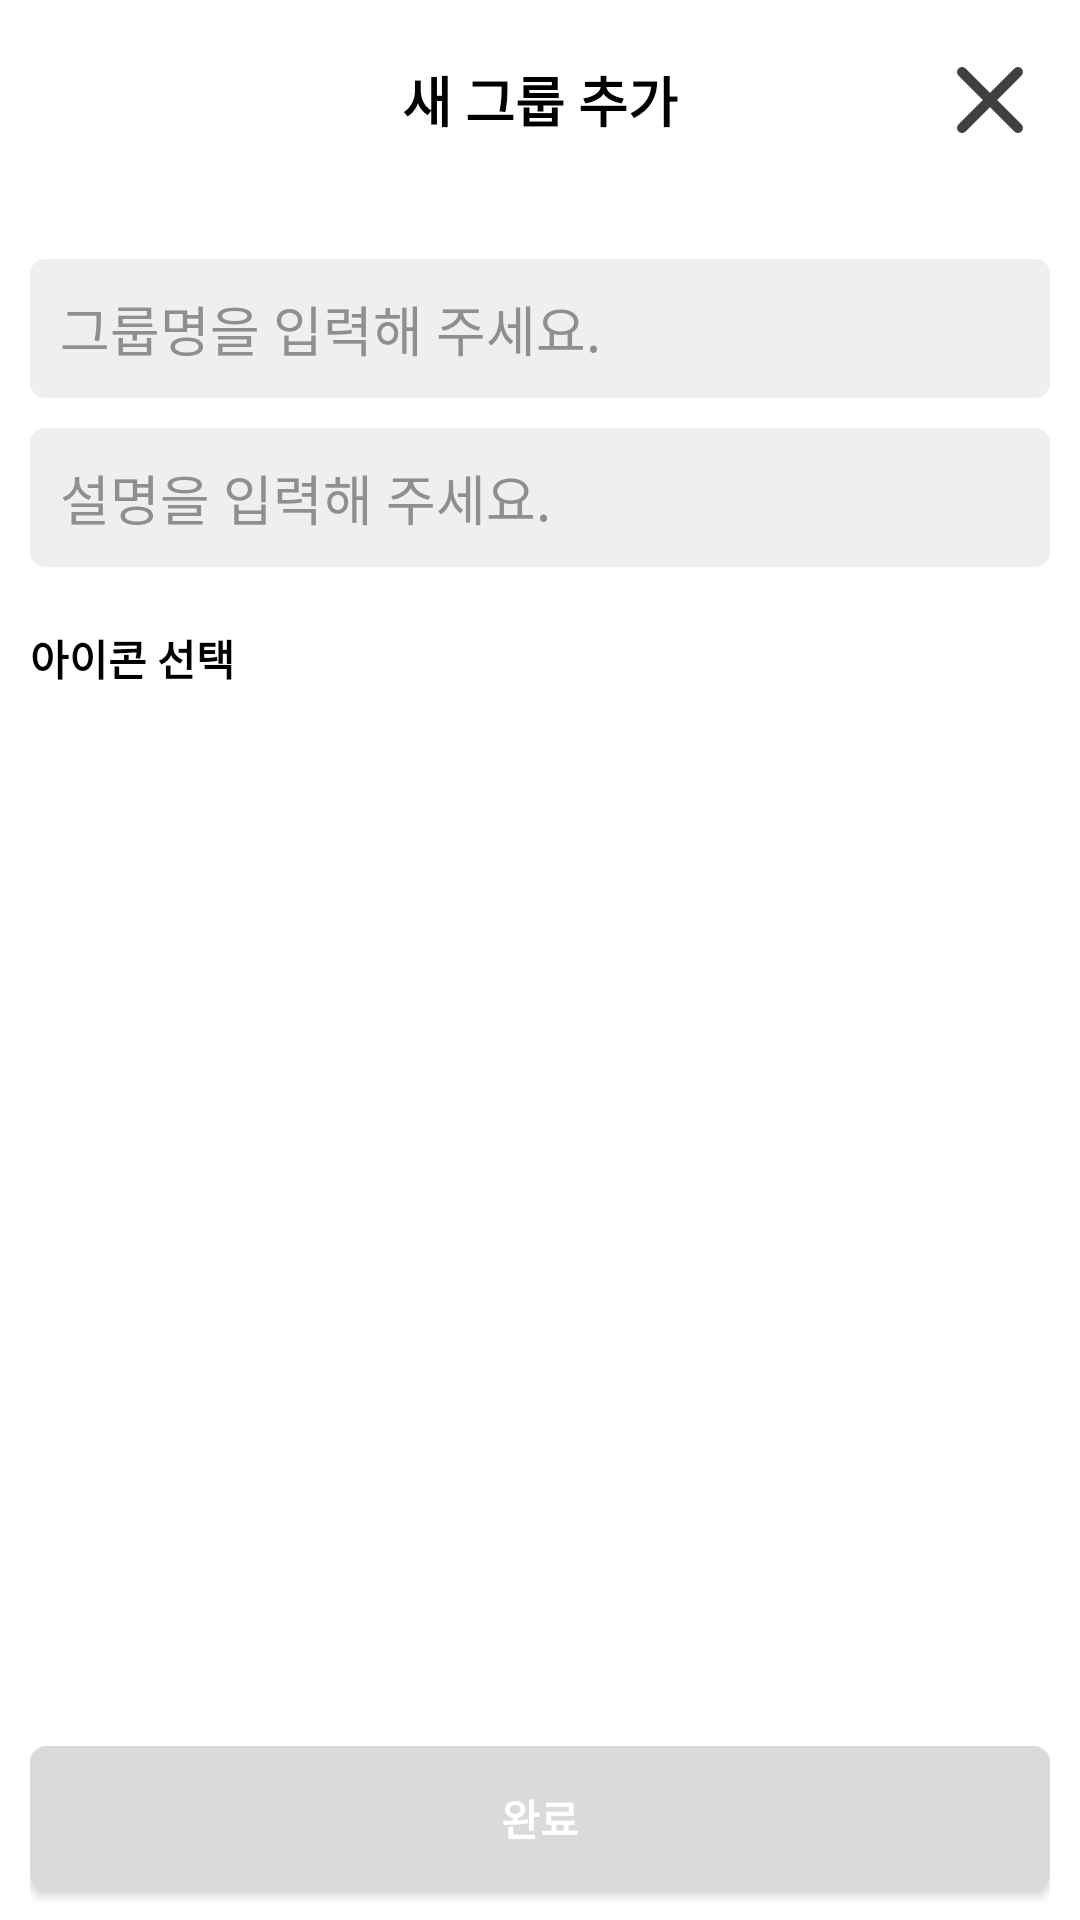

Icons on this 1080 × 1920 Android screen, each with the point to tap as (x,y):
close: (990,100)
